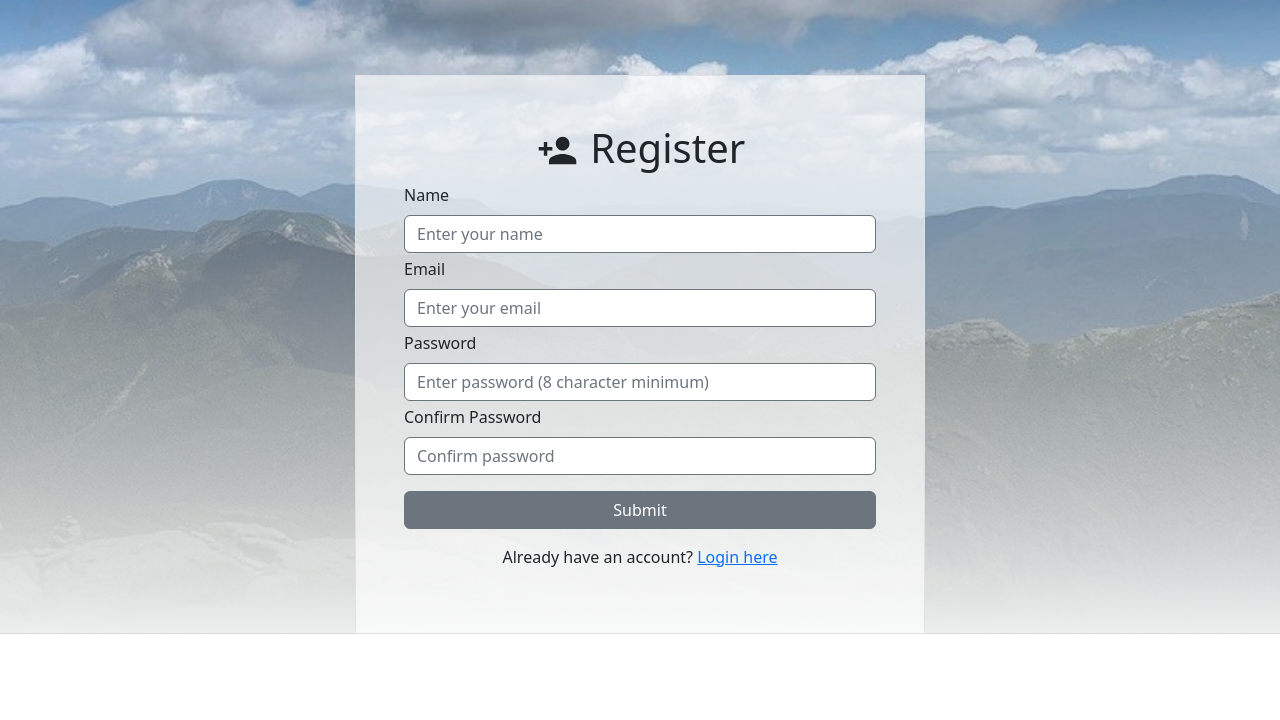
Test: Register page testing › should log in if details are provided and button is clicked
Type "test" into the field labelled "Name".
click(640, 234); type("test")  # box [404, 215, 876, 253]
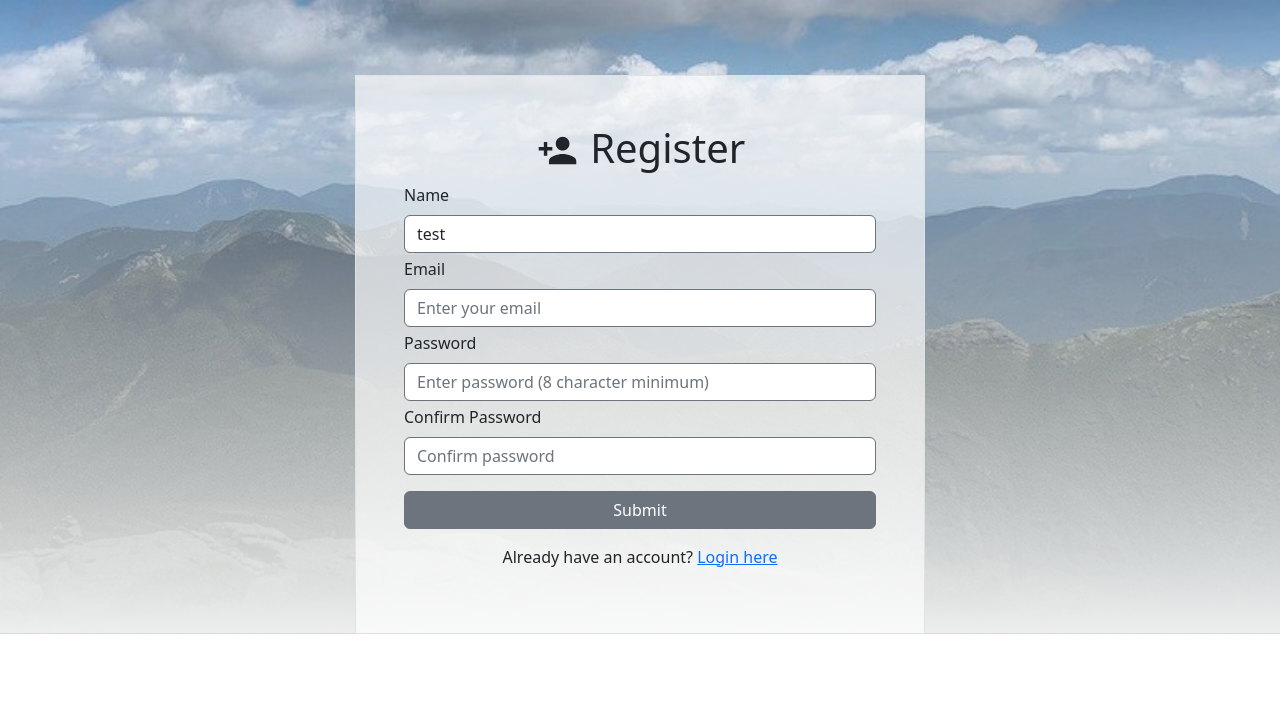
Type "test@work.com" into the field labelled "Email".
click(640, 308); type("test@work.com")  # box [404, 289, 876, 327]
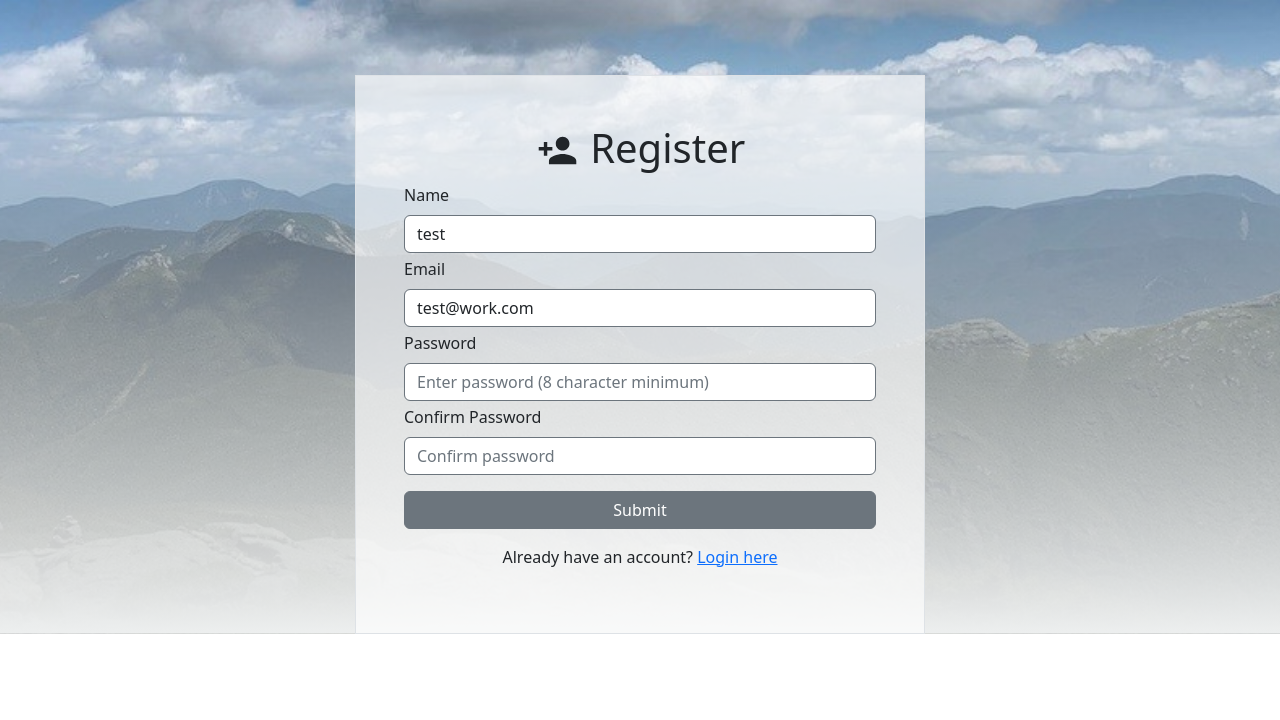
Type "test1234" into the password field labelled "Password".
click(640, 382); type("test1234")  # box [404, 363, 876, 401]
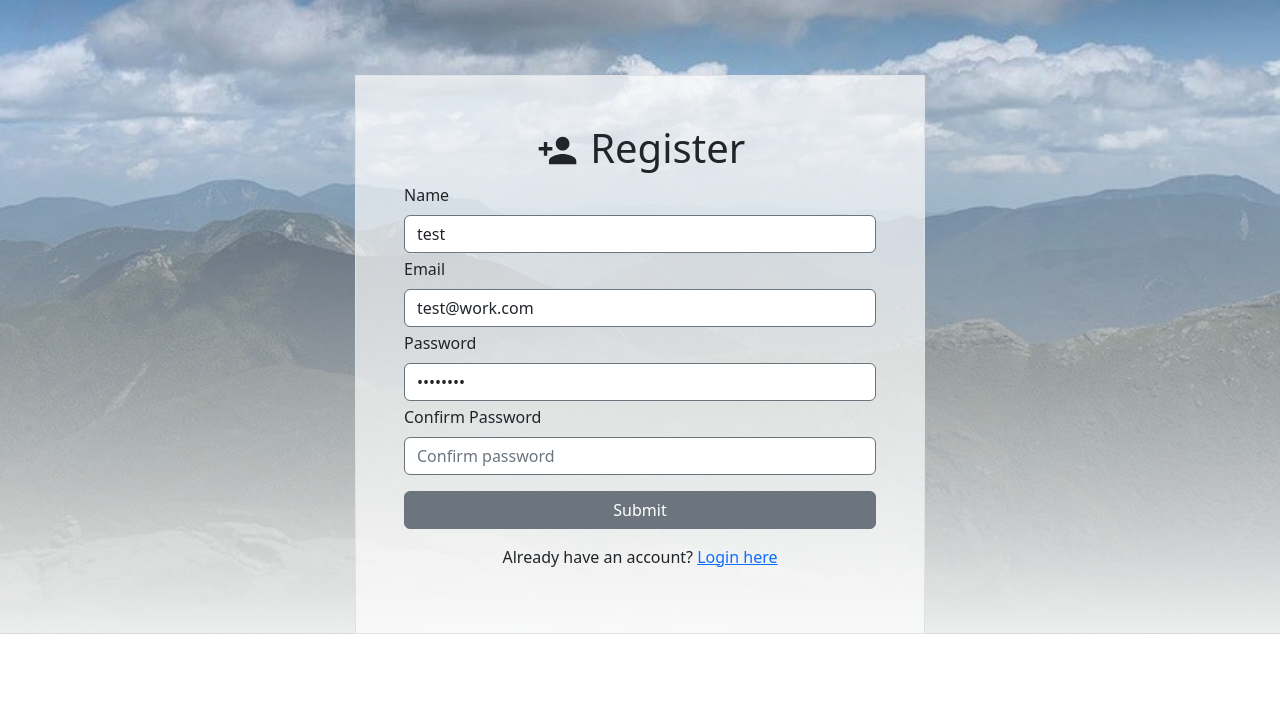
Type "test1234" into the password field labelled "Confirm Password".
click(640, 456); type("test1234")  # box [404, 437, 876, 475]
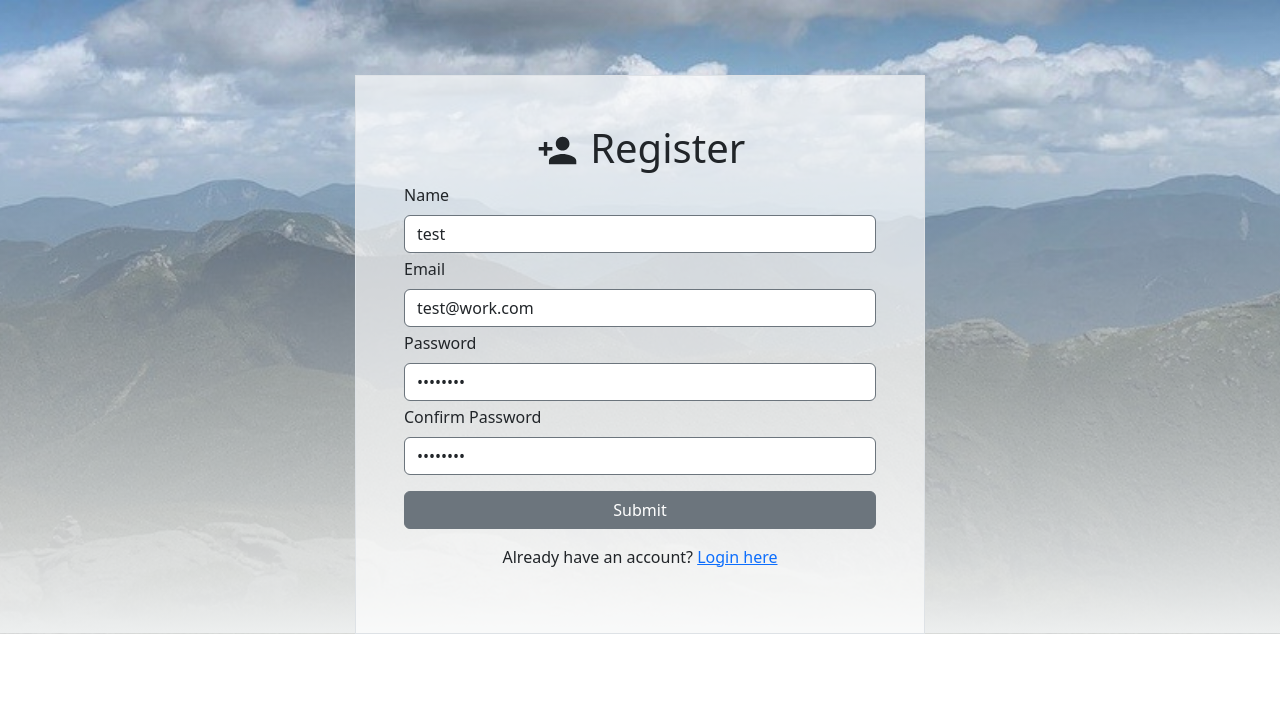
Click the button "Submit".
click(640, 510)  # box [404, 491, 876, 529]
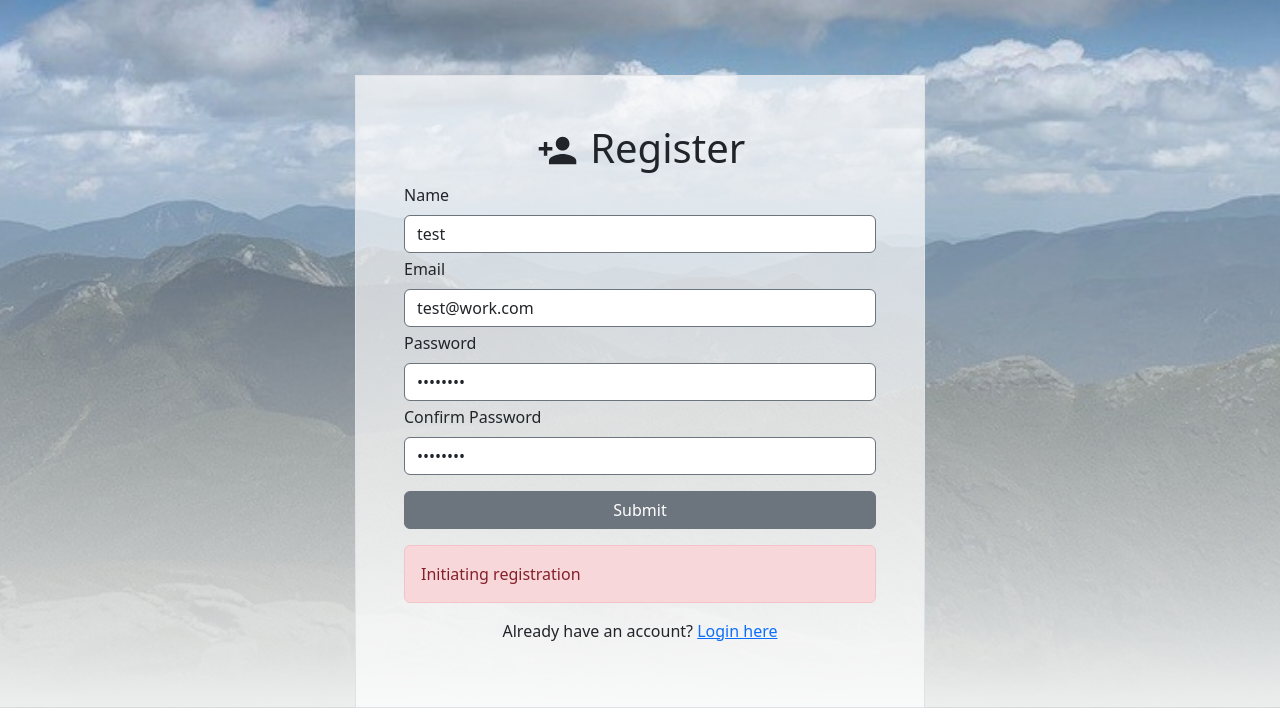
Now the text "Initiating registration" is shown, box [404, 545, 876, 603]
